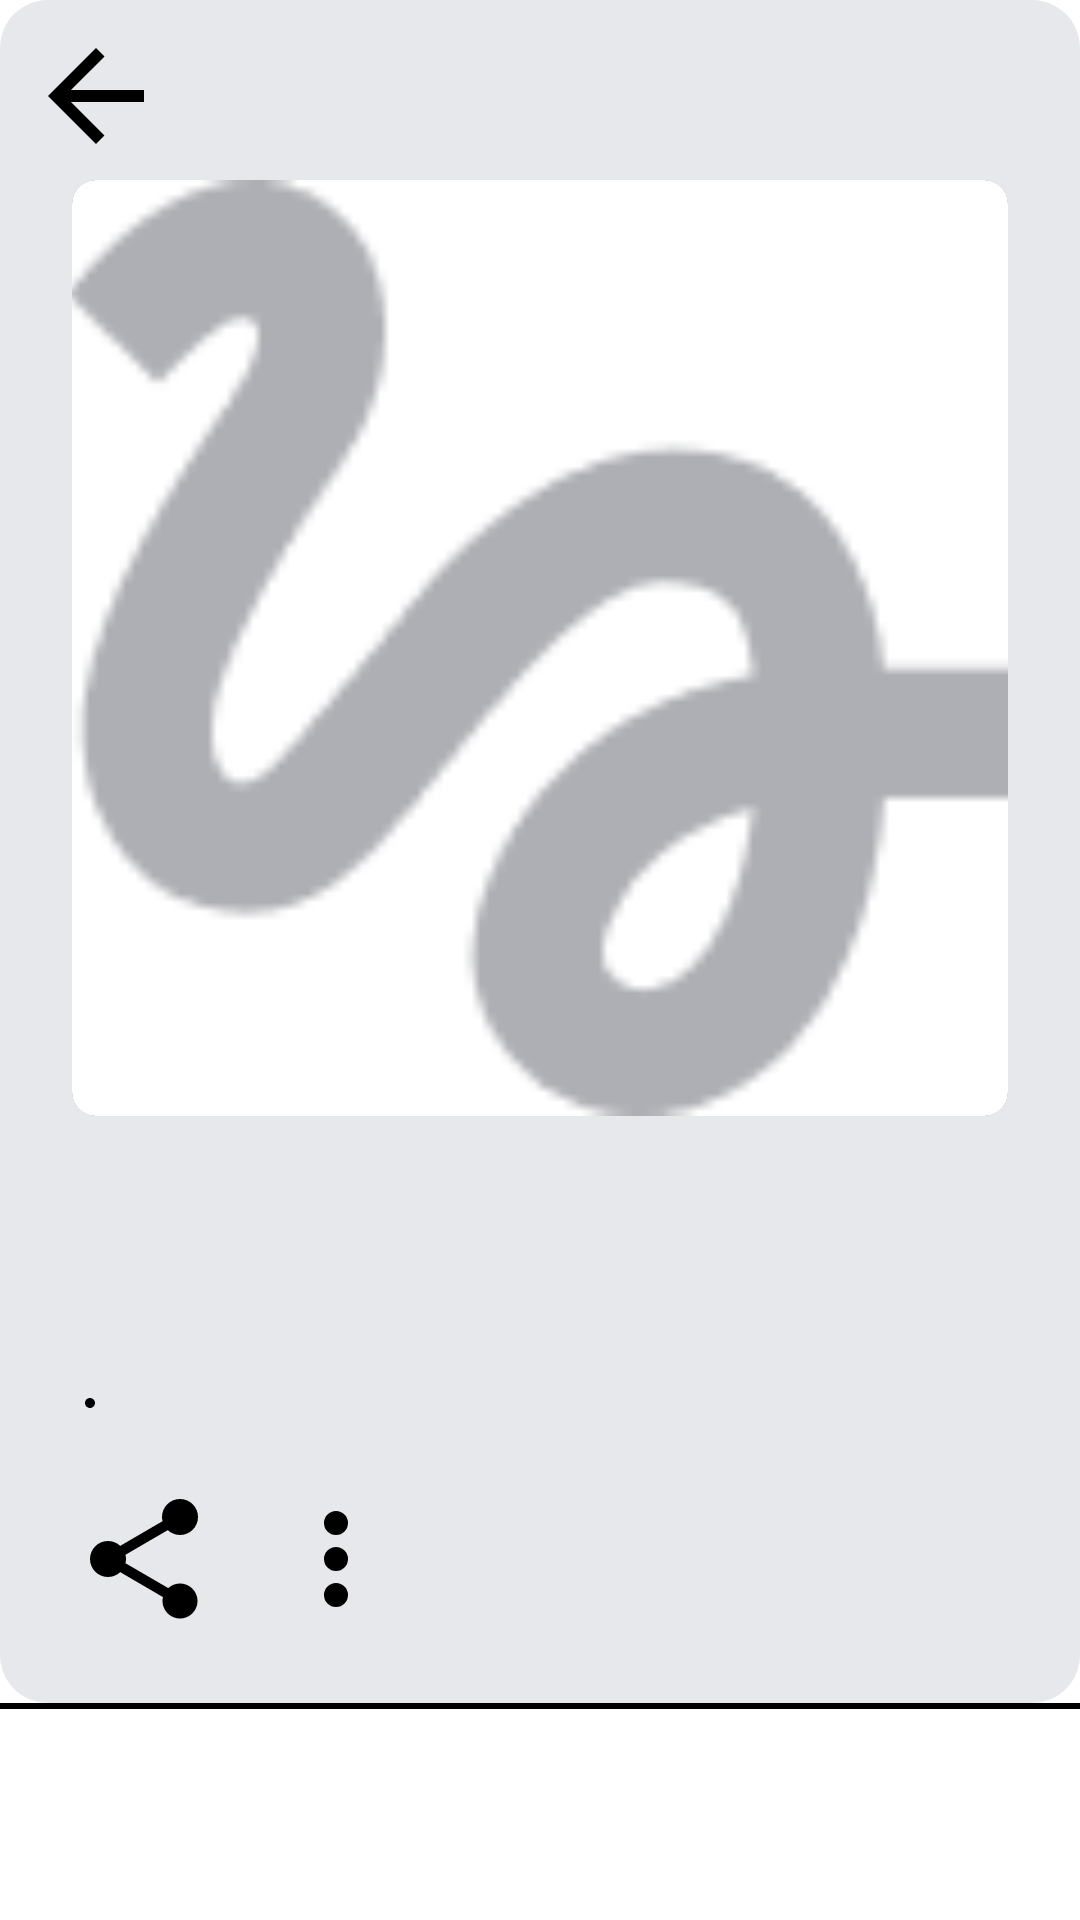

Named icons in this screenshot (1080 x 1920) and their bounding boxes, (x1=x1, y1=y1, x2=x2, y2=y2):
Меню плейлиста: (x1=324, y1=1511, x2=348, y2=1607)
Назад: (x1=48, y1=48, x2=144, y2=144)
Поделиться приложением: (x1=90, y1=1499, x2=198, y2=1619)
